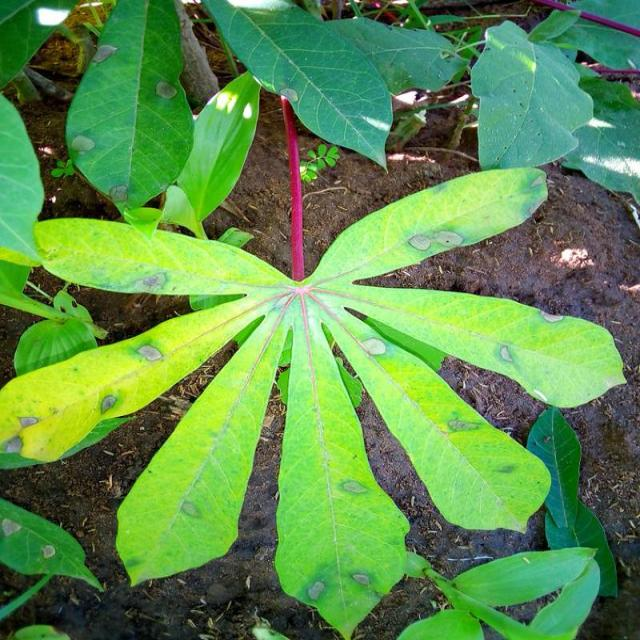cassava leaf: (2, 86, 627, 637), (202, 0, 395, 174), (66, 0, 197, 215), (470, 18, 596, 170)
